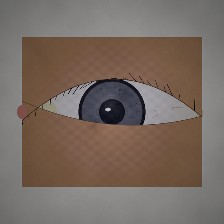pinguecula_lesion: (33, 96, 65, 121)
